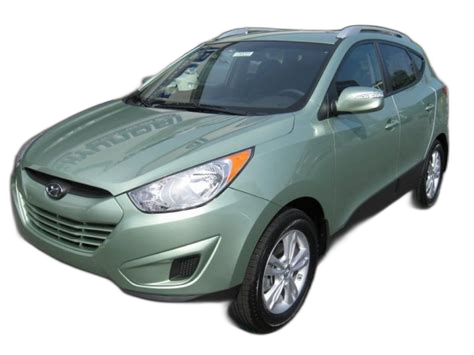car: (5, 24, 456, 329)
